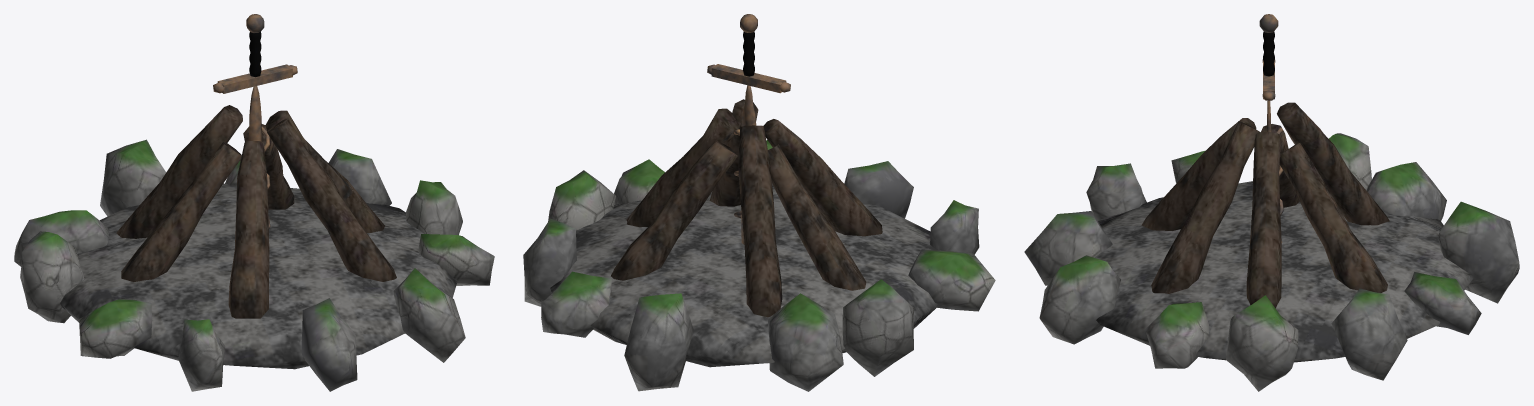
The model's file is bonfire.glb.
3 renders of one model, left to right at view 1: azimuth 30°, elevation 25°; view 2: azimuth 150°, elevation 25°; view 3: azimuth 270°, elevation 25°, orthographic.
Visible parts, largest first — view 1: bonfire_body, bonfire_sword; view 2: bonfire_body, bonfire_sword; view 3: bonfire_body, bonfire_sword.
Part boxes in pixels (x1,y1,x2,y2): bonfire_body: (14,105,494,391); bonfire_sword: (213,14,297,229); bonfire_body: (523,99,995,391); bonfire_sword: (707,14,790,244); bonfire_body: (1024,102,1519,391); bonfire_sword: (1259,14,1283,242).
Size of the model in its own units: 1.78 by 1.22 by 1.88.
Materials: 2 (2 with a texture image).
